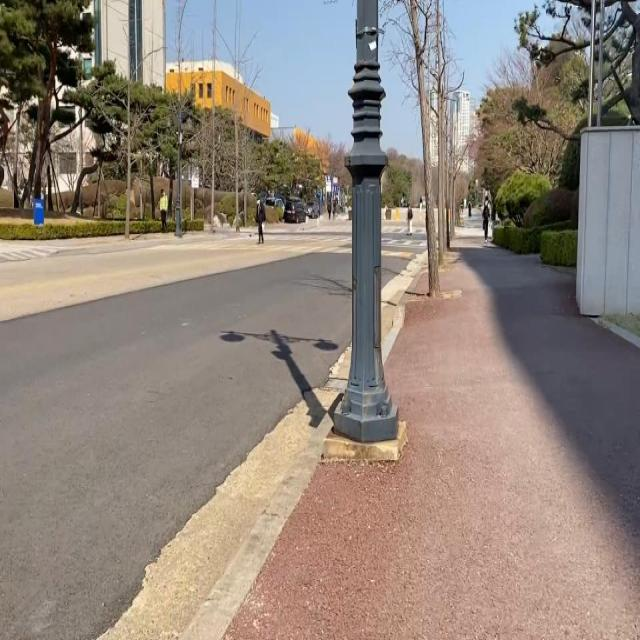sidewalk: (227, 227, 640, 639)
